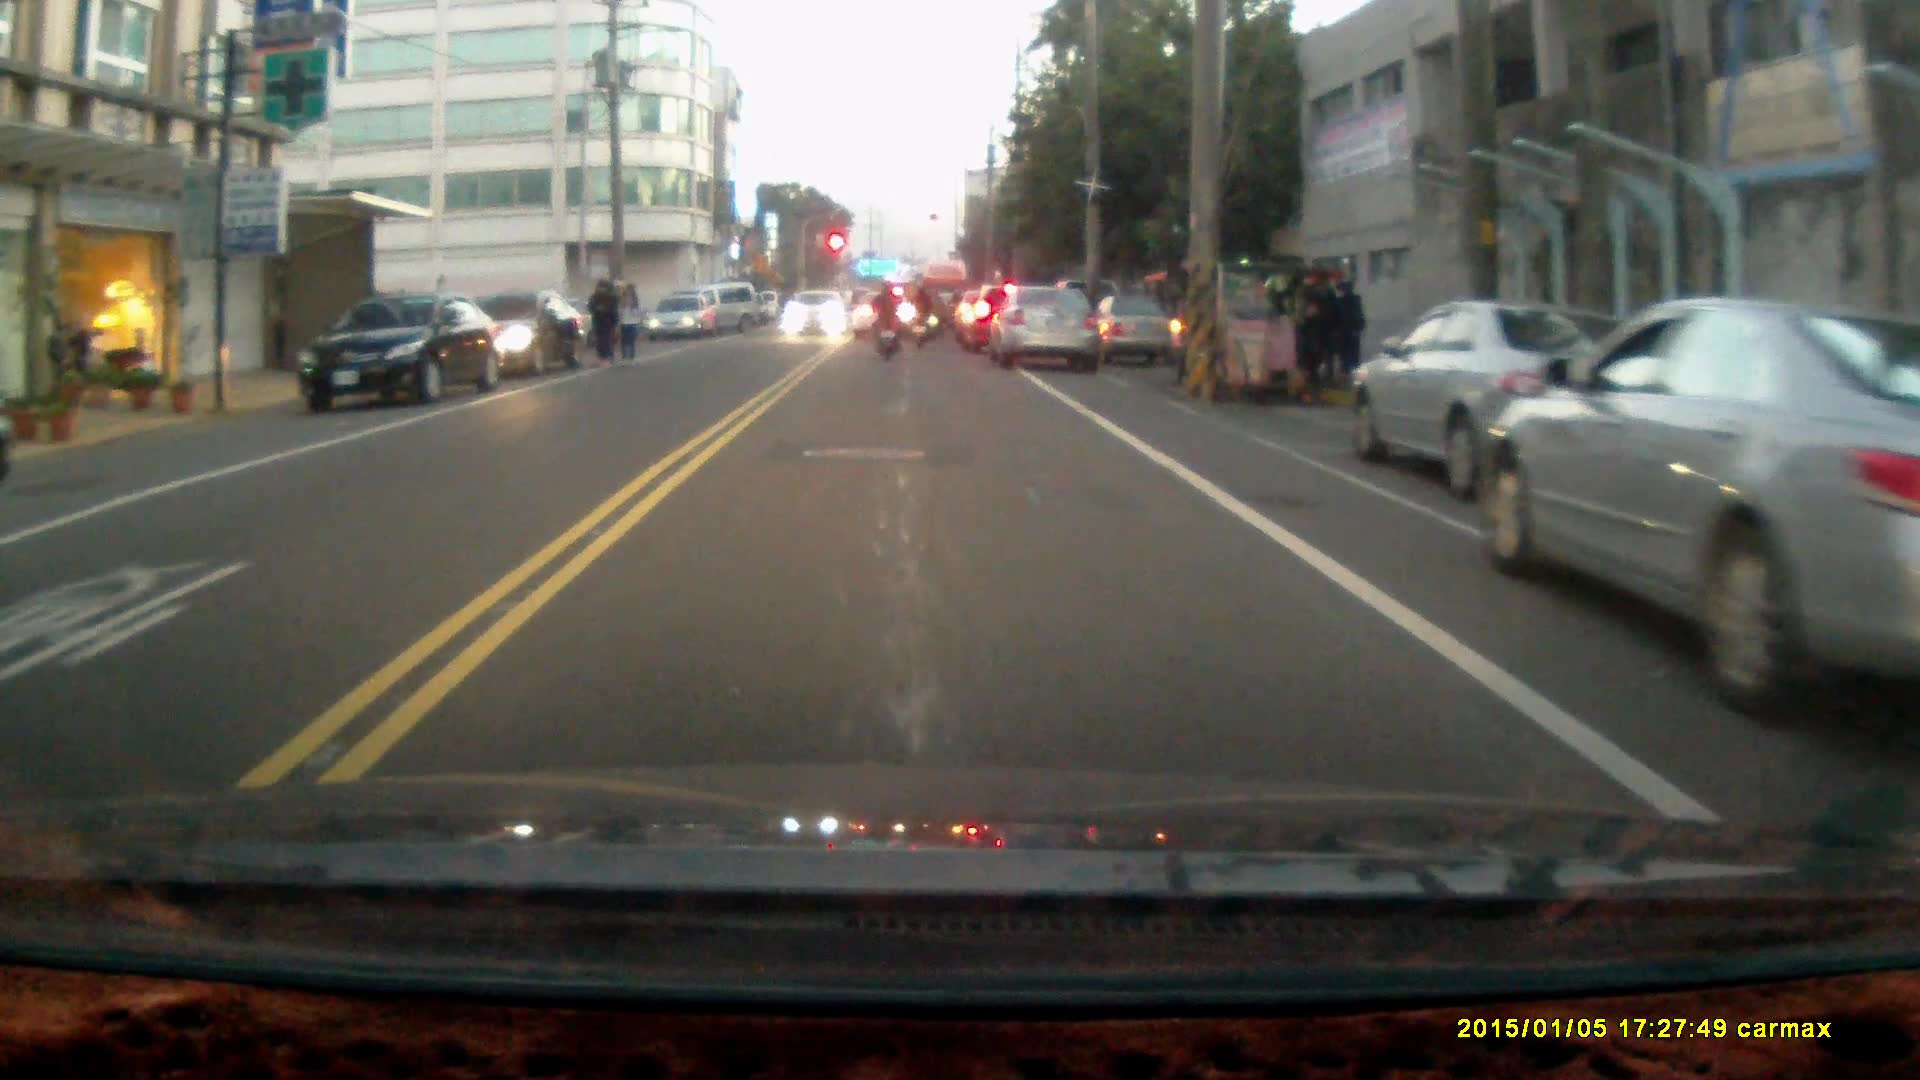pedestrian: (1331, 277, 1369, 383), (584, 277, 619, 369), (616, 277, 641, 364)
rider: (869, 281, 903, 363), (904, 282, 933, 347)
vehicle: (1481, 292, 1920, 750), (1345, 298, 1677, 500), (290, 288, 509, 412), (1163, 261, 1347, 406), (469, 287, 593, 375), (992, 283, 1105, 371), (648, 294, 722, 344), (783, 290, 851, 341)
